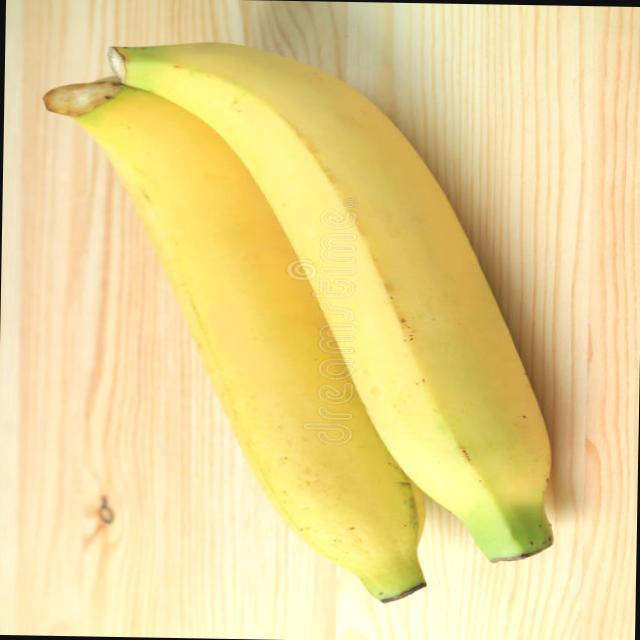Platano: (92, 34, 568, 564), (30, 60, 467, 606)
